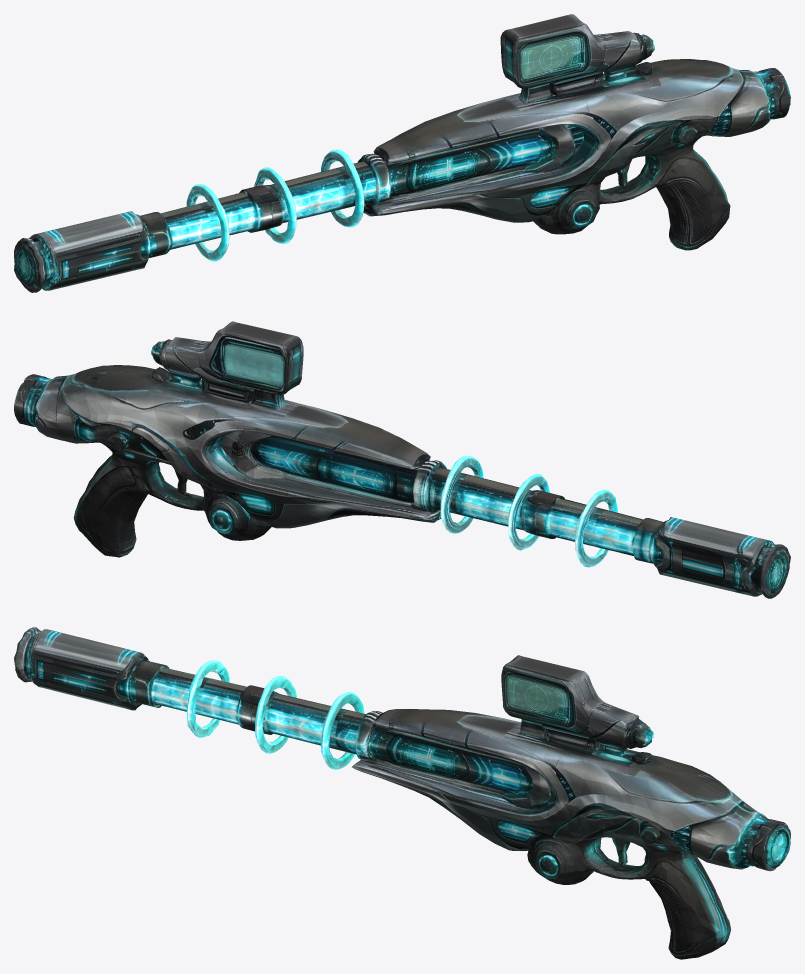
File: gun_igla_opt.glb
3 renders of one model, top to bottom at view 1: azimuth 30°, elevation 25°; view 2: azimuth 150°, elevation 25°; view 3: azimuth 330°, elevation 25°, orthographic.
Bounding box in the file's own units: 1 × 0.3232 × 0.1182.
1 material, 1 textured.
